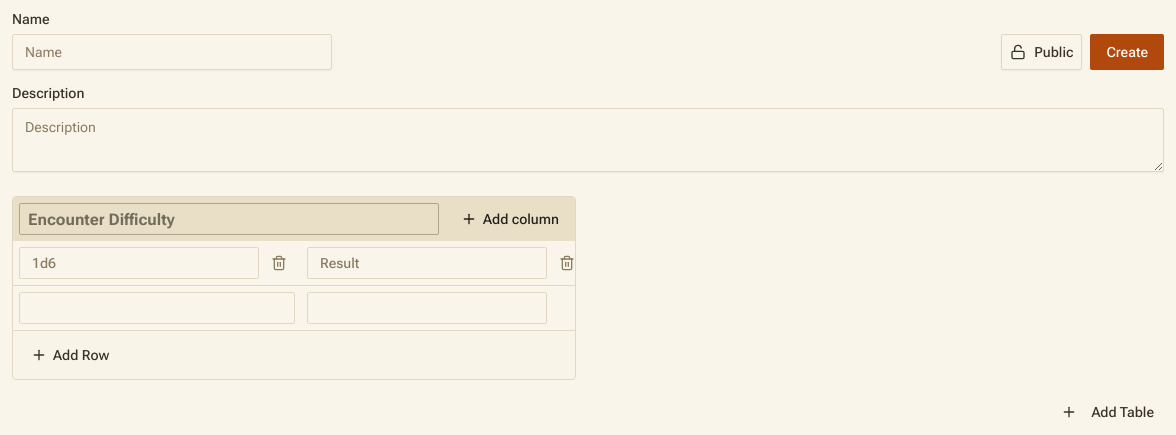
Test: CreateEditRandomTable › adds and removes columns while keeping row cells aligned
The width and height of the screenshot is (1176, 435).
Expected: the number of fields named "Column name" is 2, left=19, top=247, right=259, bottom=279; left=307, top=247, right=547, bottom=279
Expected: the number of fields named "row 1" is 2, left=19, top=292, right=295, bottom=324; left=307, top=292, right=547, bottom=324
Click the button "Add column" at [510, 219], box left=451, top=203, right=569, bottom=235
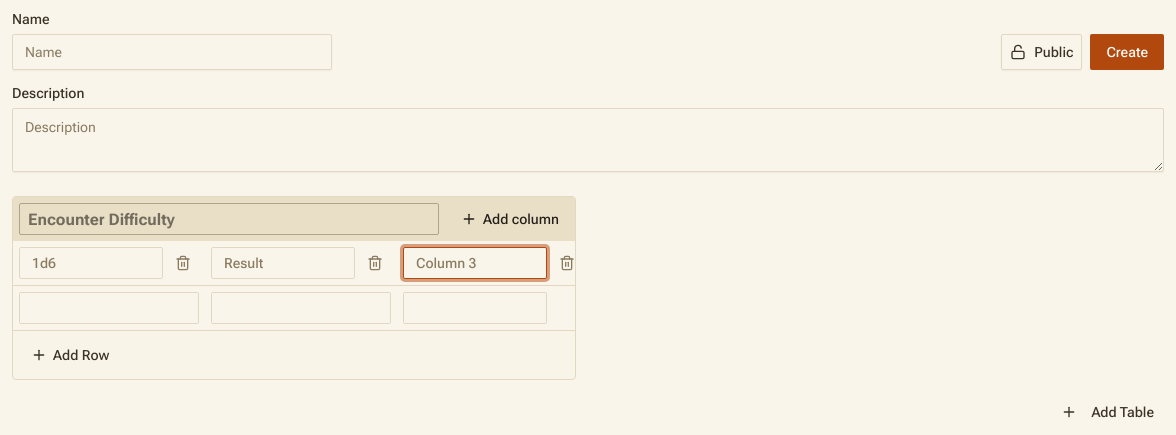
Expected: the number of fields named "Column name" is 3, left=19, top=247, right=163, bottom=279; left=211, top=247, right=355, bottom=279; left=403, top=247, right=547, bottom=279
Now the number of fields named "row 1" is 3, box left=19, top=292, right=199, bottom=324; left=211, top=292, right=391, bottom=324; left=403, top=292, right=547, bottom=324
Click the button named "Remove Column 3 column" at [567, 263], box left=551, top=247, right=583, bottom=279
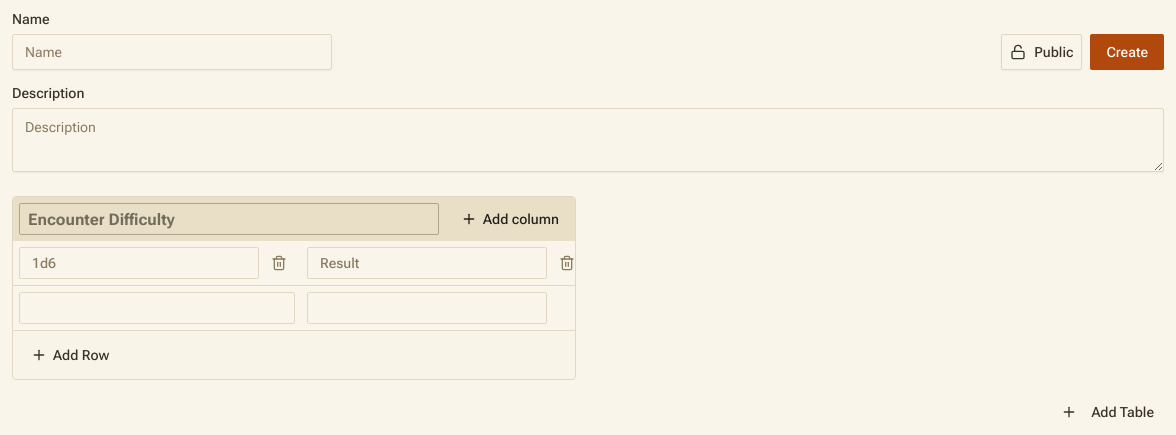
Expected: the number of fields named "Column name" is 2, left=19, top=247, right=259, bottom=279; left=307, top=247, right=547, bottom=279
Now the number of fields named "row 1" is 2, box left=19, top=292, right=295, bottom=324; left=307, top=292, right=547, bottom=324
